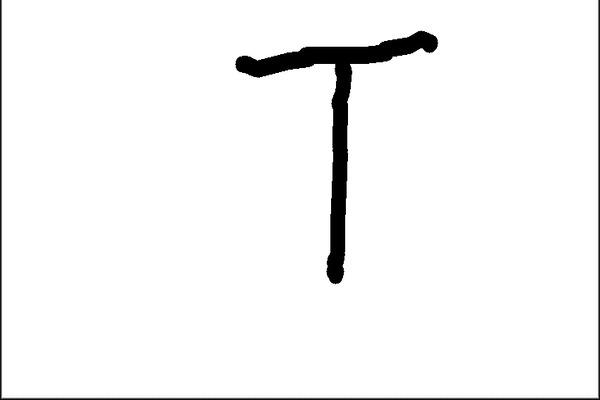T: (233, 27, 445, 285)
